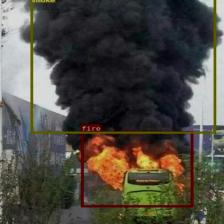fire: (80, 131, 193, 206)
smoke: (30, 0, 215, 133)
